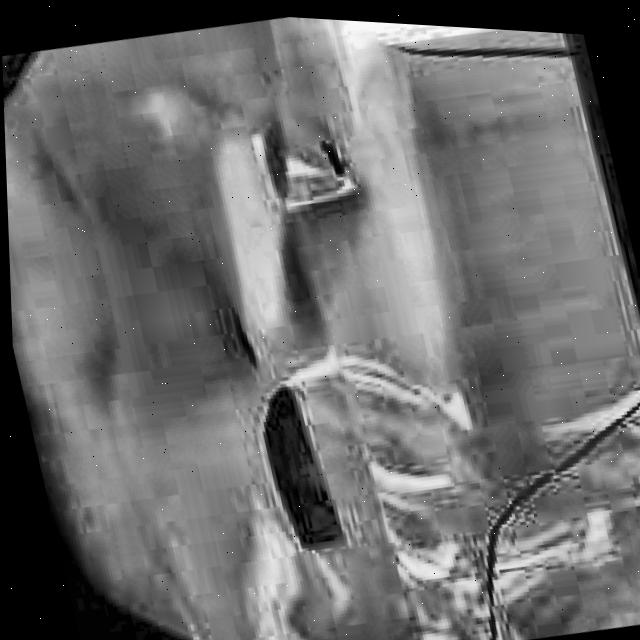bumper_dent: (5, 125, 249, 431), (204, 108, 380, 313)
